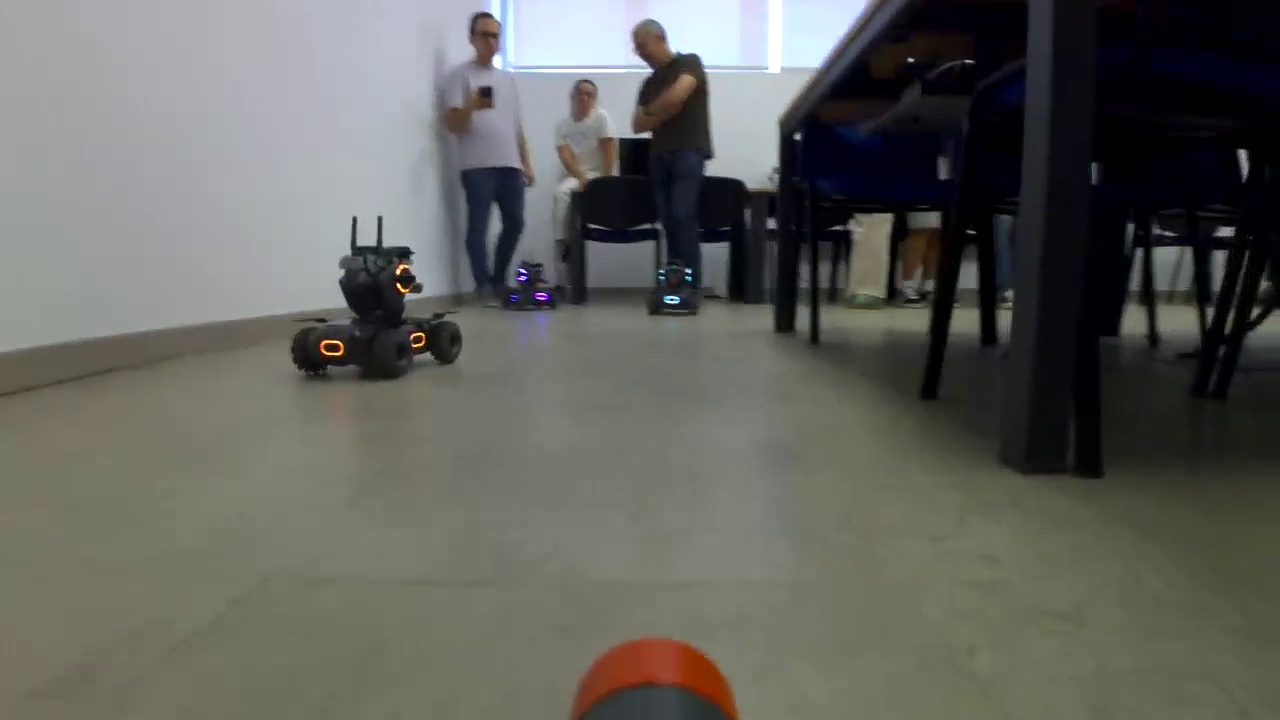robot: (285, 237, 472, 378), (502, 251, 558, 311), (651, 263, 701, 315)
